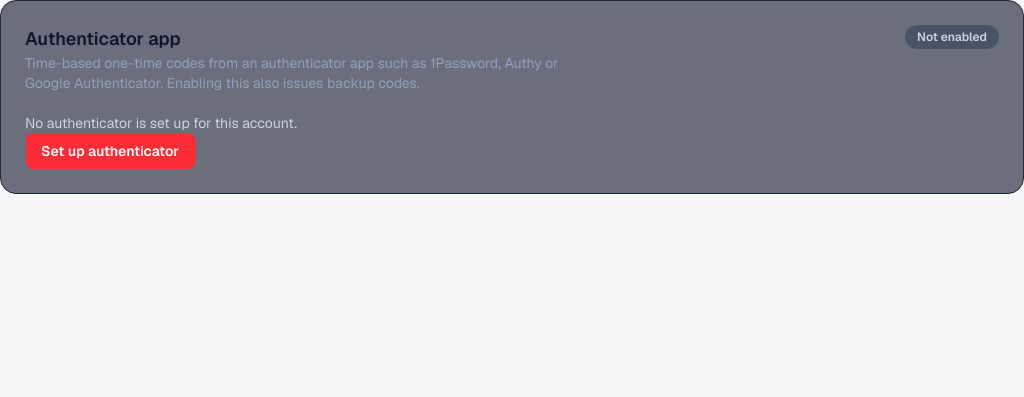
Test: TotpEnrollmentCard › surfaces a rejected code without leaving the setup step
The width and height of the screenshot is (1024, 397).
Click the button "Set up authenticator": (110, 151) [25,133,195,169]
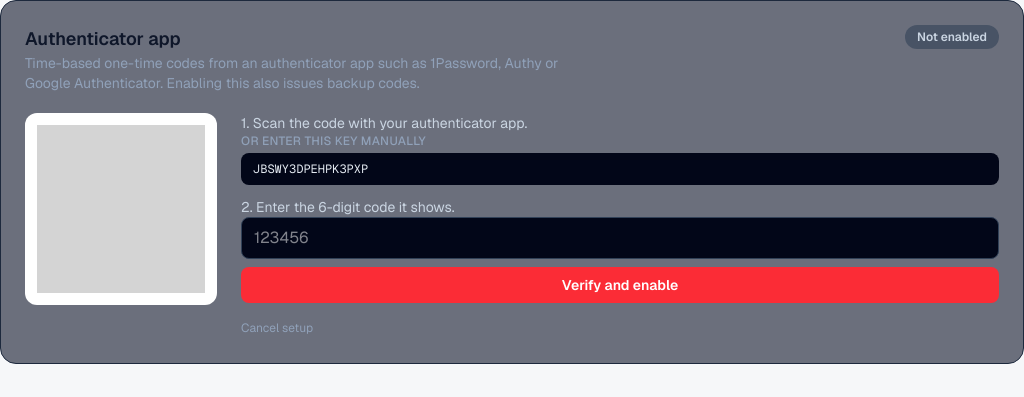
Expected: the text "JBSWY3DPEHPK3PXP" is shown, [241,153,999,185]
In the field with placeholder "123456": (620, 238) [241,217,999,259], type "000000"
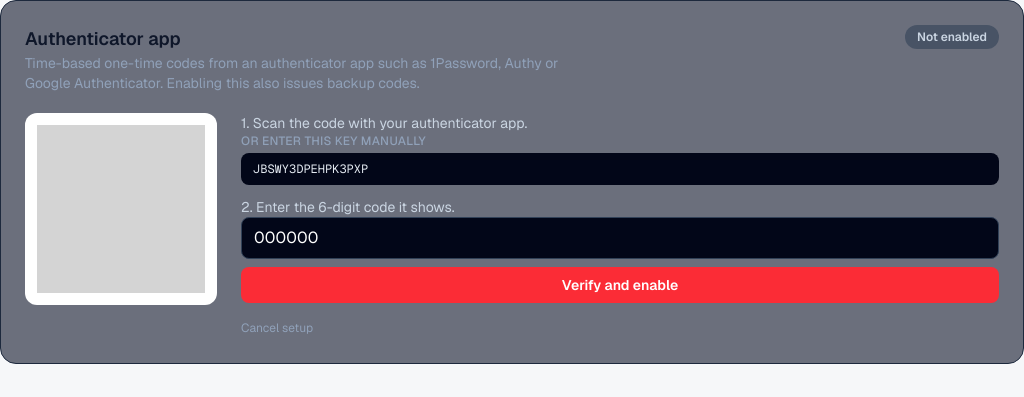
Click the button "Verify and enable": (620, 285) [241,267,999,303]
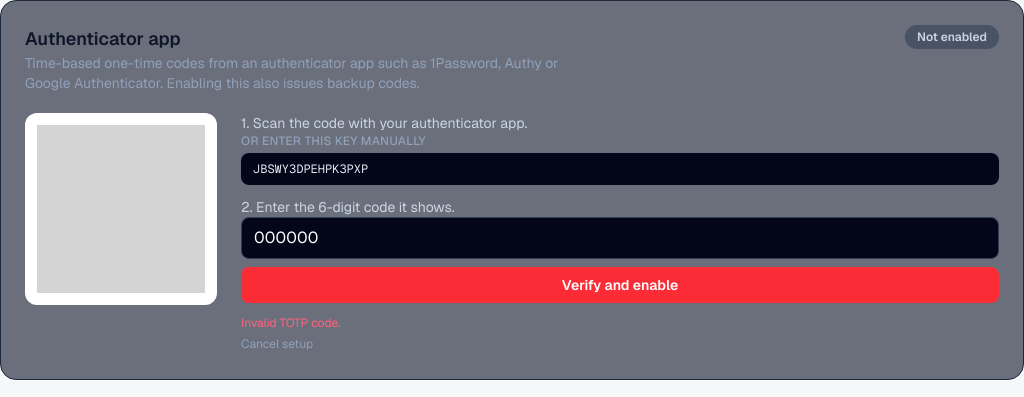
Expected: the text "JBSWY3DPEHPK3PXP" is shown, [241,153,999,185]
Expected: the text "Invalid TOTP code." is shown, [241,315,340,331]
